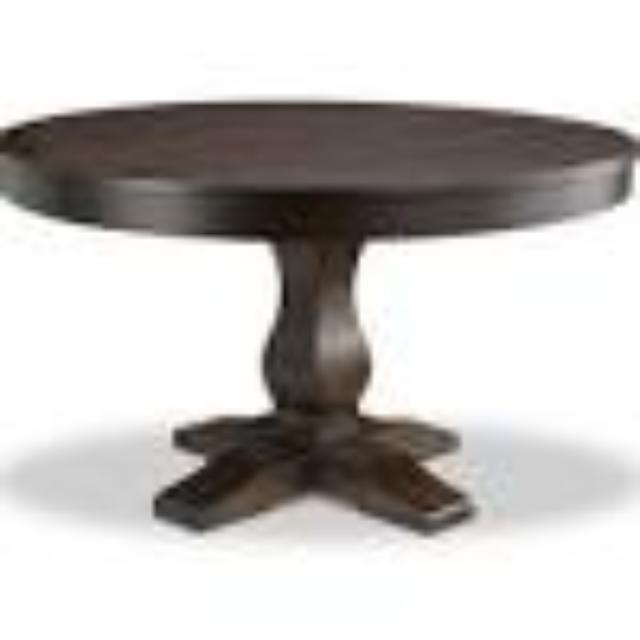obstacle: (24, 35, 614, 589)
